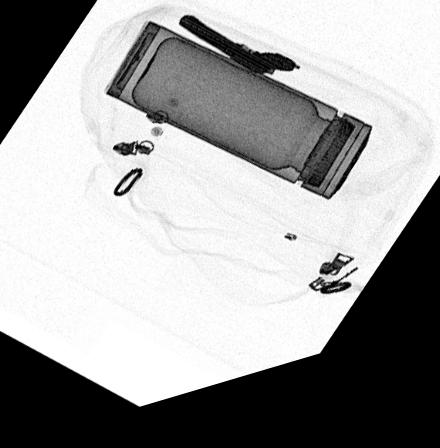Gun: (175, 24, 298, 93)
